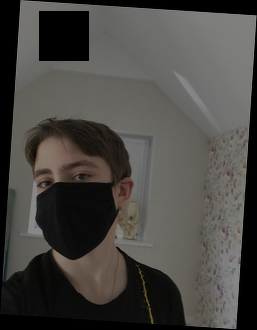with_mask: (30, 148, 119, 261)
